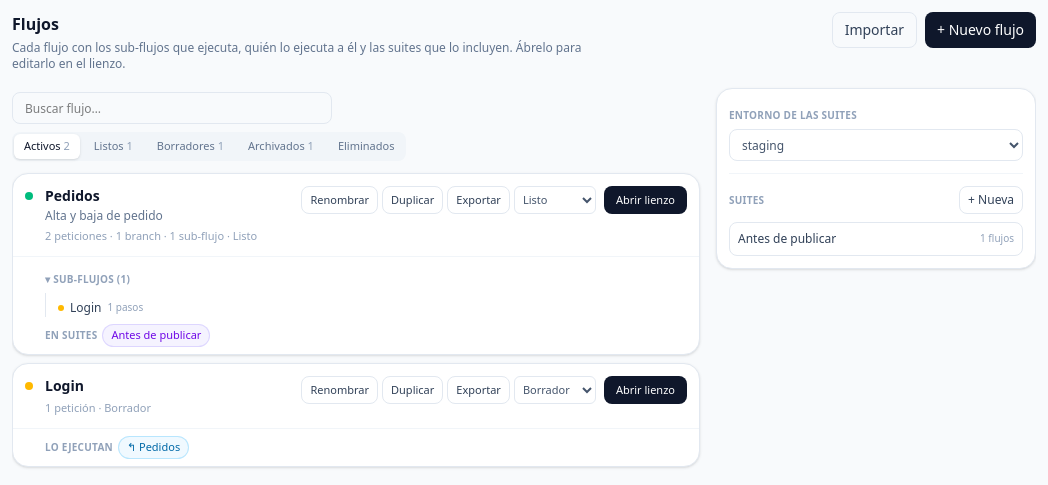
Test: la lista de flujos: estados › cada fila dice de qué está hecho el flujo, con su descripción
expect the text "Pedidos" is shown: met, box [45, 186, 100, 204]
expect the text "Alta y baja de pedido" is shown: met, box [45, 206, 163, 224]
Click the button "▾ Sub-flujos (1)": point(88, 280) [45, 272, 130, 287]
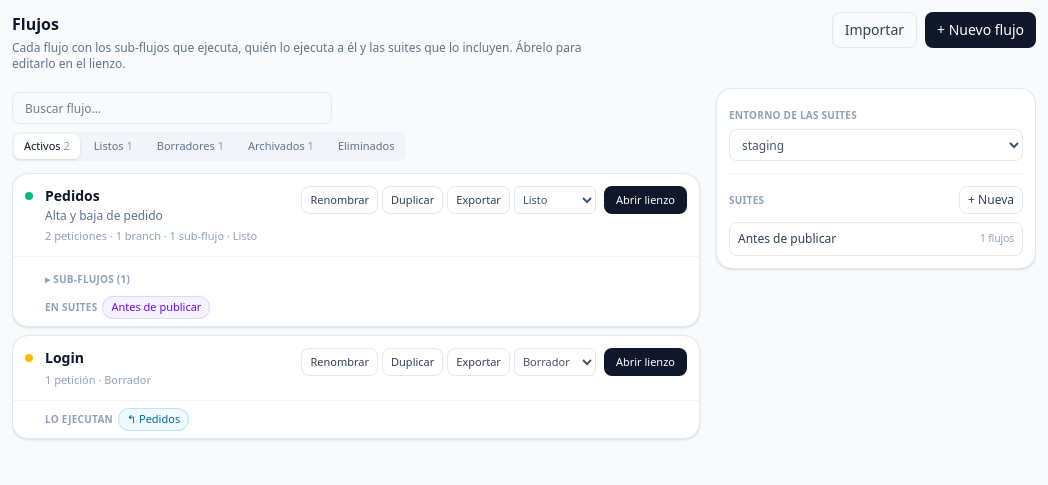
expect the button "▸ Sub-flujos (1)" is shown: met, box [45, 272, 130, 287]
